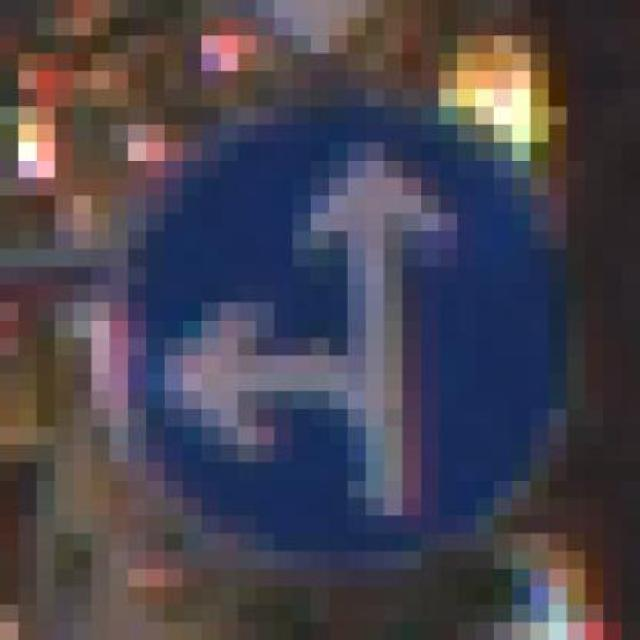Go straight or turn left: (55, 89, 603, 586)
